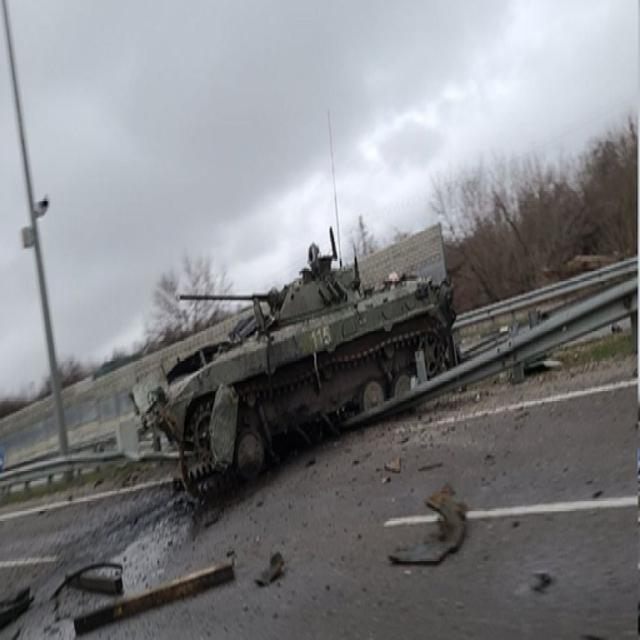APC-IFV: (132, 251, 456, 489)
